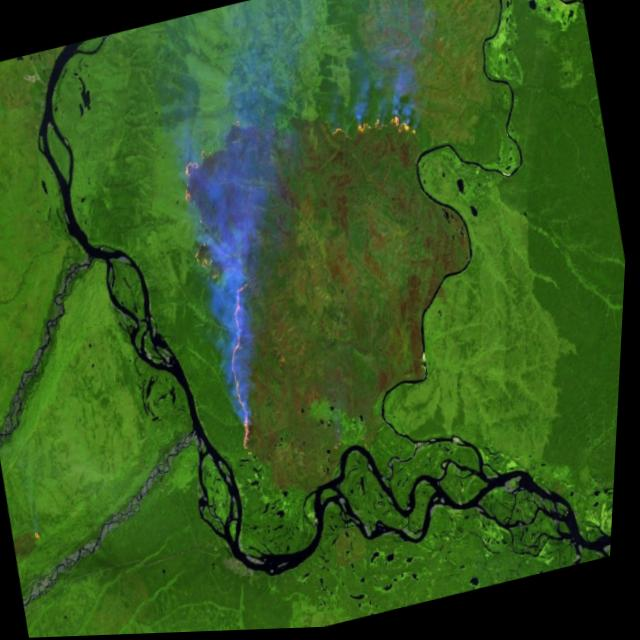fire: (157, 138, 296, 474), (321, 102, 423, 162)
